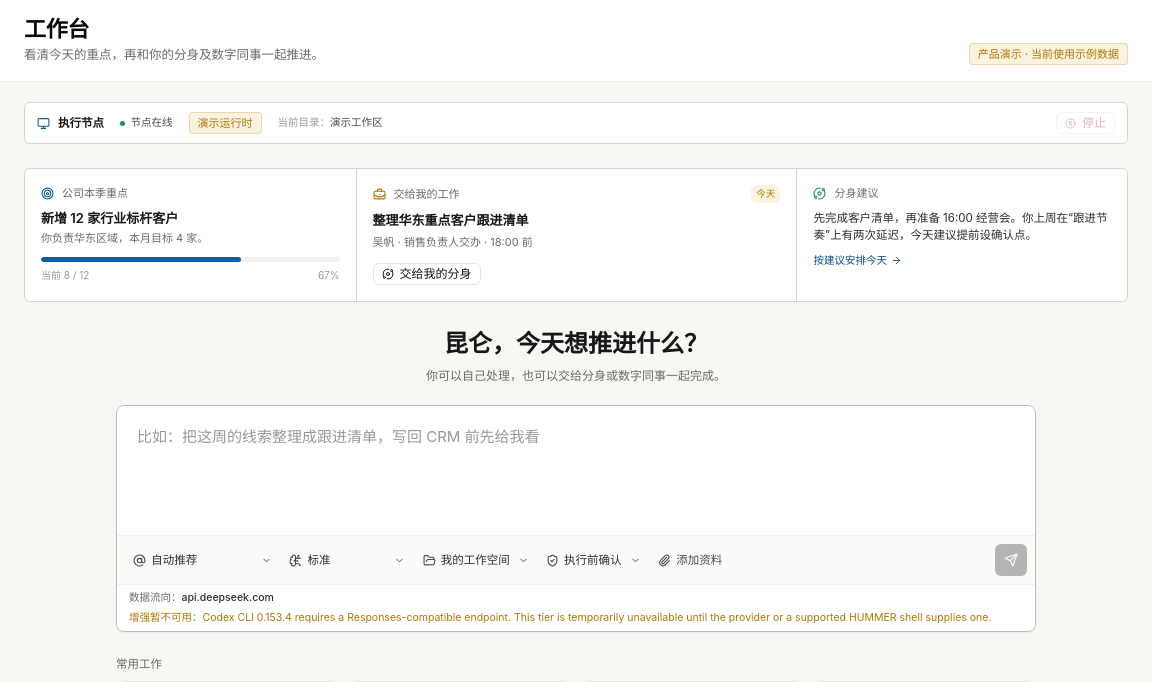
Test: WorkbenchPage V5 › can hand delegated work to the digital twin with one click
Click the button with aria-label "交给分身：整理华东重点客户跟进清单": {"x": 427, "y": 274} x1=373 y1=263 x2=481 y2=285
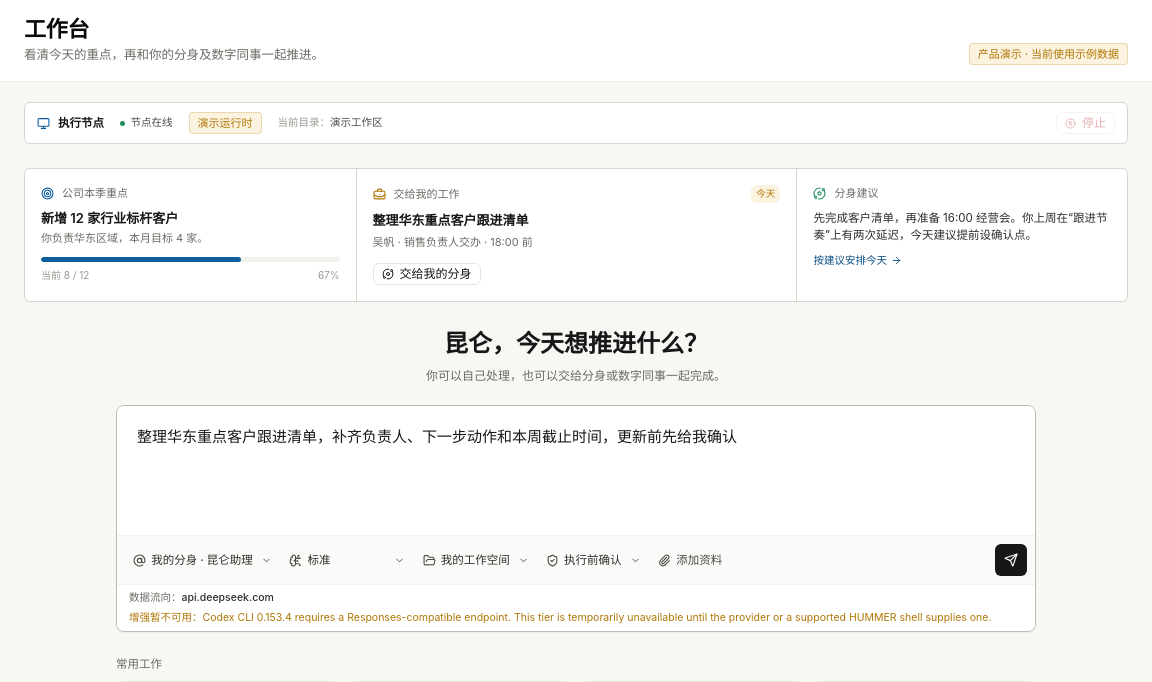
Result: the text box named "任务描述" holds "整理华东重点客户跟进清单，补齐负责人、下一步动作和本周截止时间，更新前先给我确认" at x1=117 y1=406 x2=1035 y2=530
Result: the dropdown named "派给谁" shows "我的分身 · 昆仑助理" at x1=151 y1=552 x2=269 y2=569
